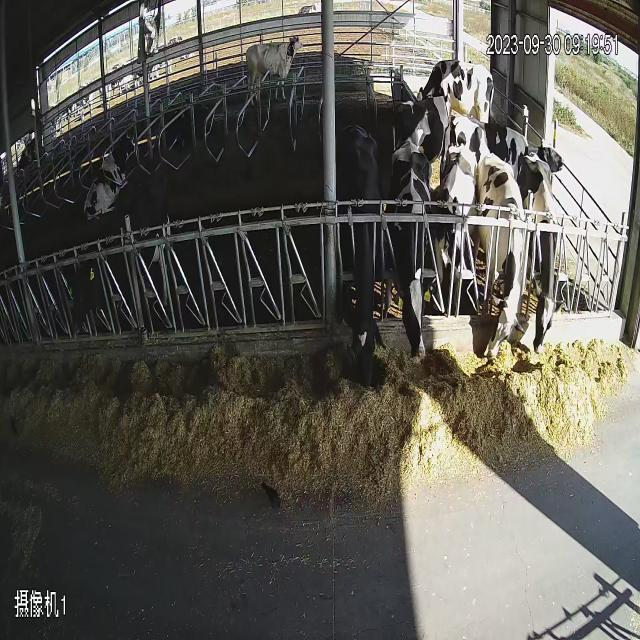feeding: (331, 109, 391, 412), (393, 132, 440, 411), (478, 148, 523, 407), (523, 144, 565, 376), (80, 121, 140, 235)
standing: (243, 21, 310, 100)
